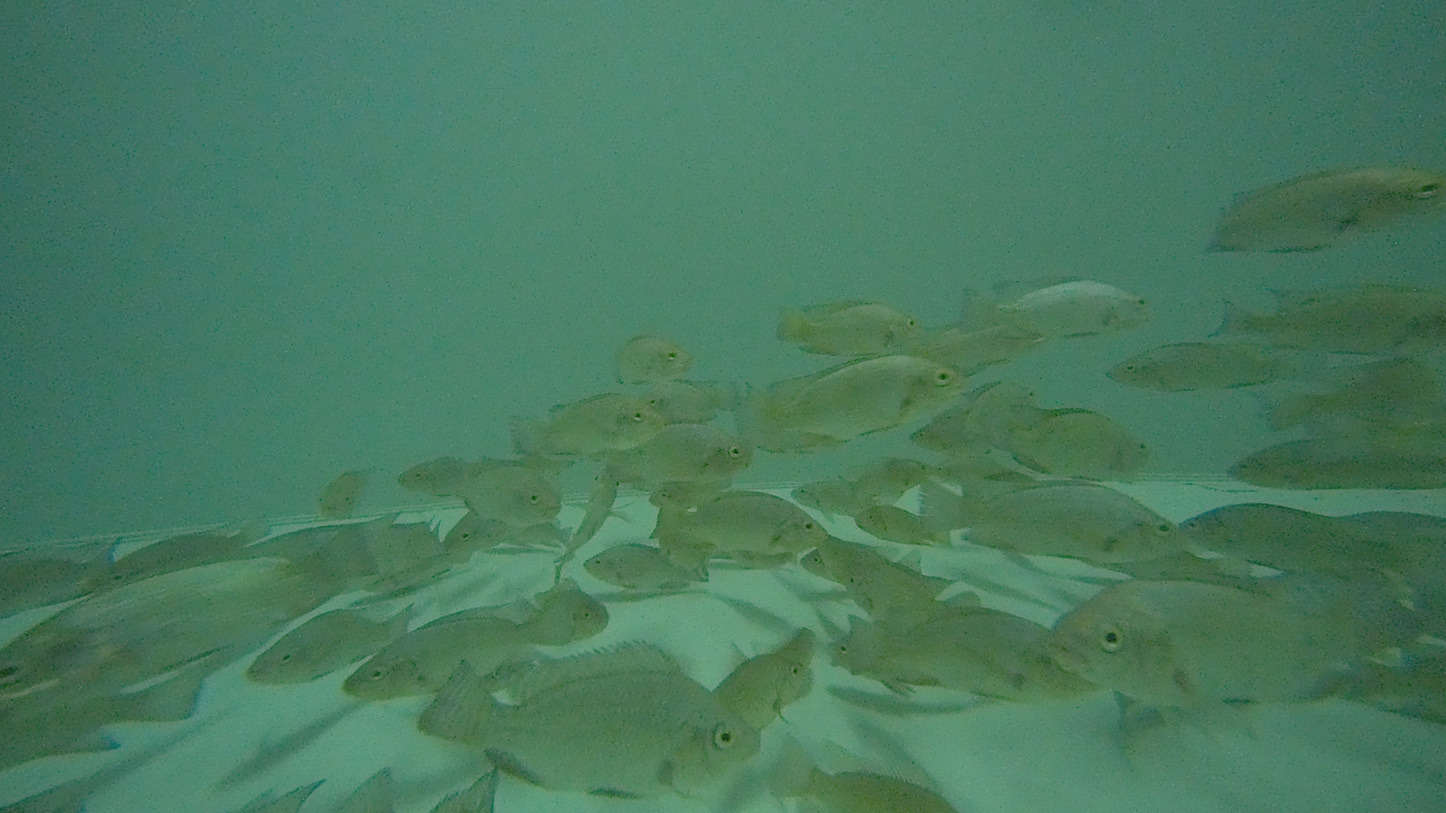fish: (914, 481, 1192, 567), (652, 488, 830, 557), (952, 285, 1155, 337), (773, 301, 927, 355)
